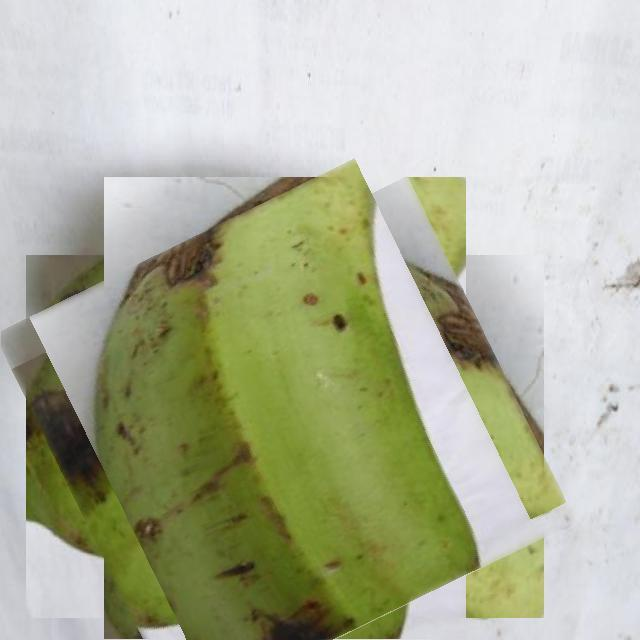Verde: (30, 178, 542, 640)
